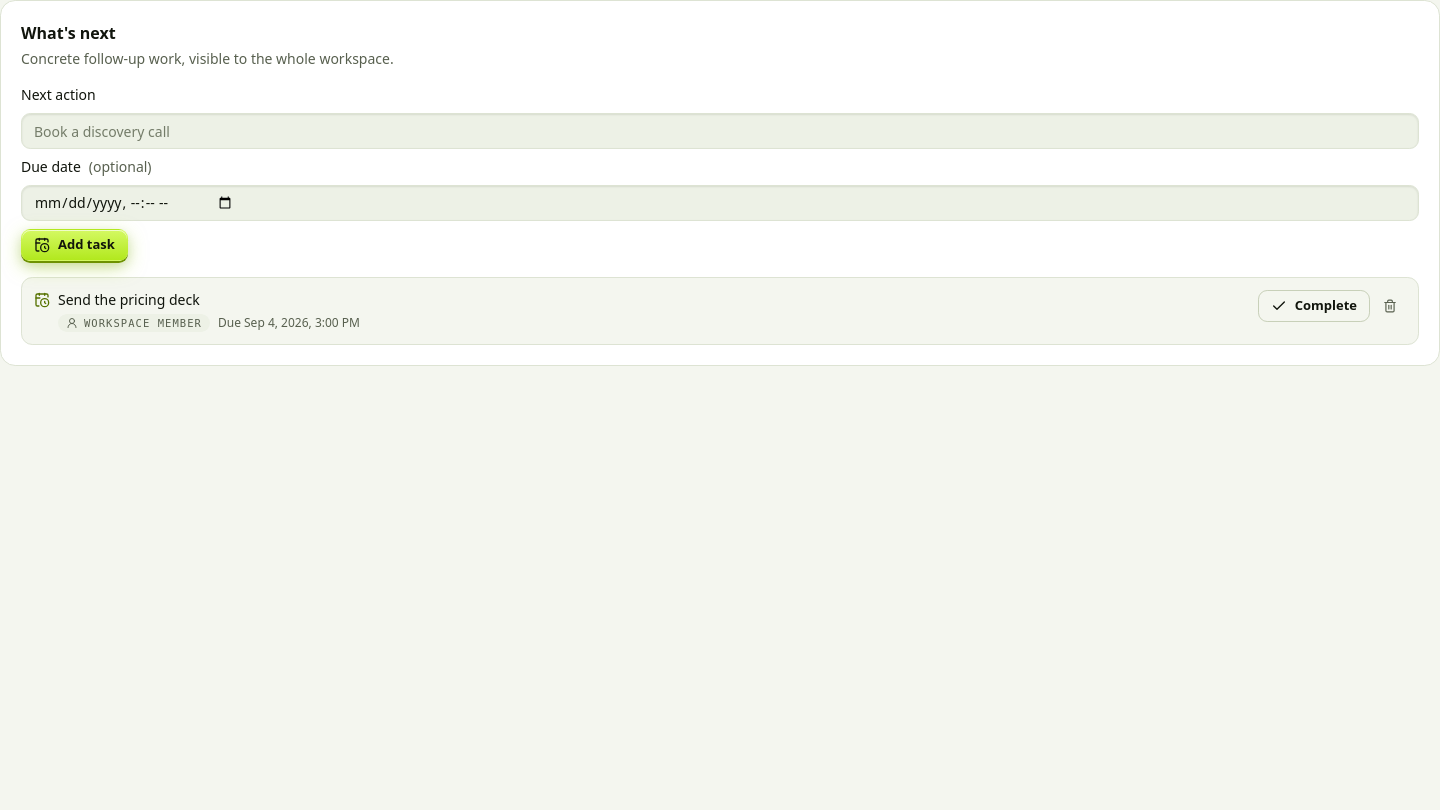
Test: confirming the deletion removes the task
The image size is (1440, 810).
Click the button named "delete send the pricing deck": (1390, 306) [1374, 290, 1406, 322]
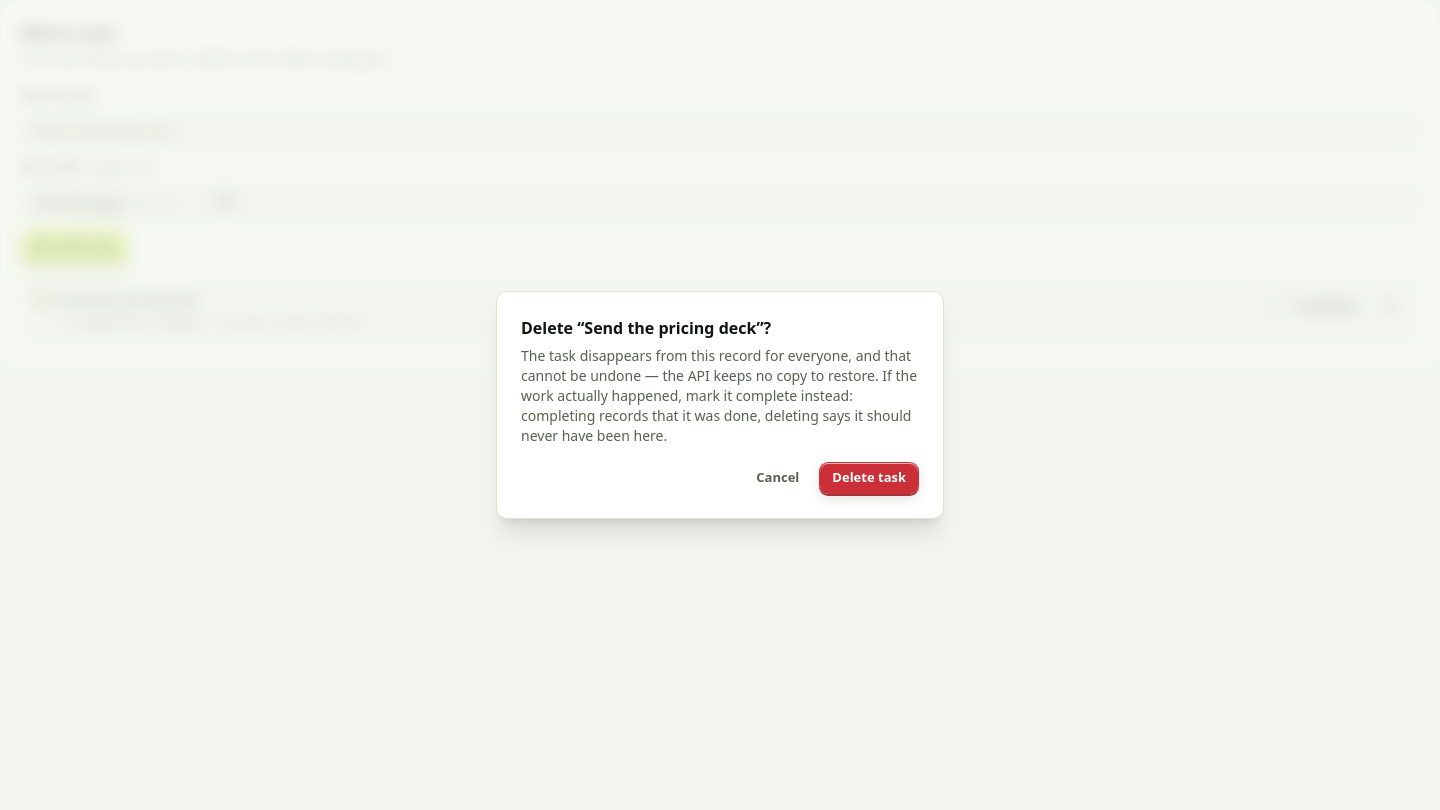
Click the button "Delete task": (869, 478) [819, 462, 919, 494]
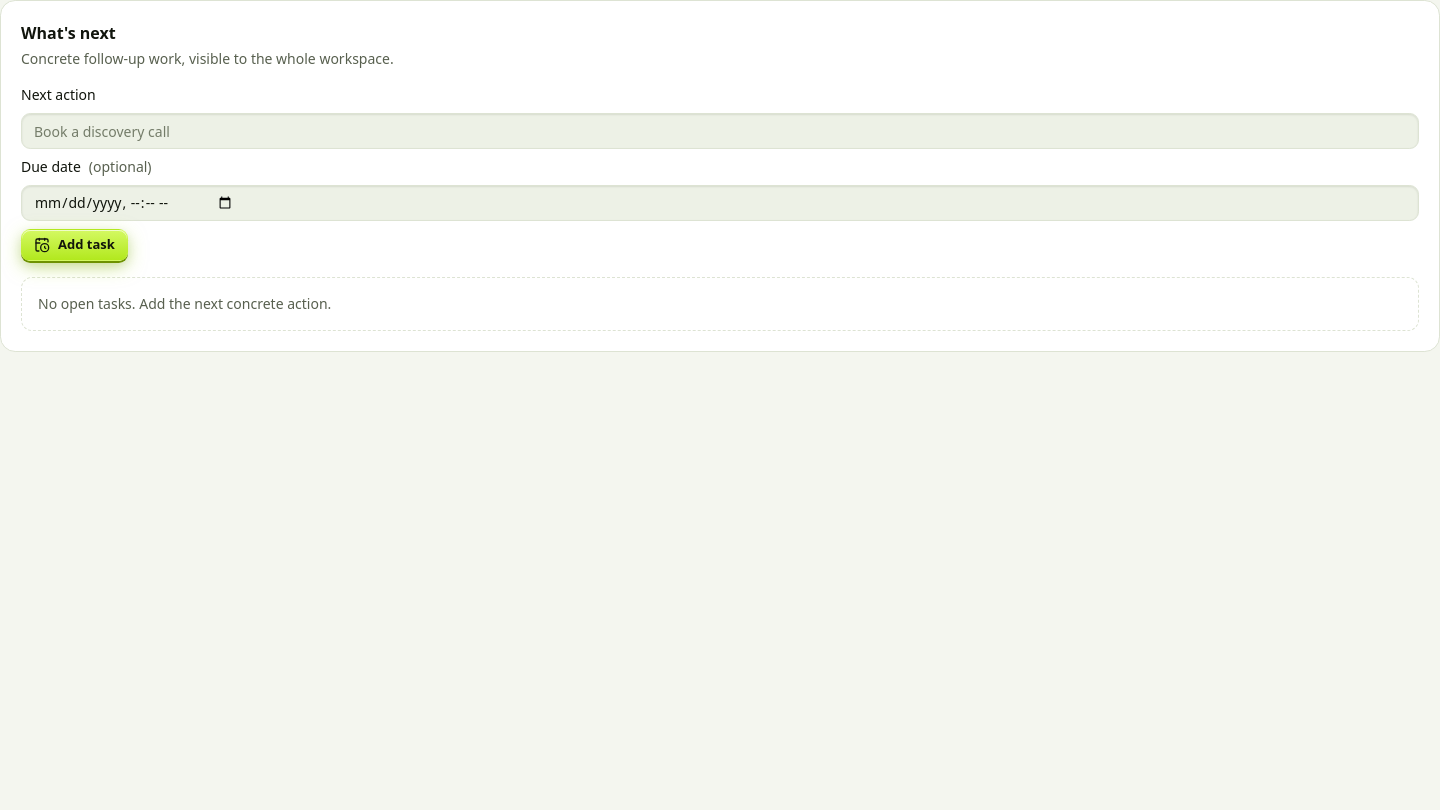
Expected: the text "Send the pricing deck" is gone
Expected: the text "No open tasks. Add the next concrete action." is shown, [21, 277, 1419, 331]
